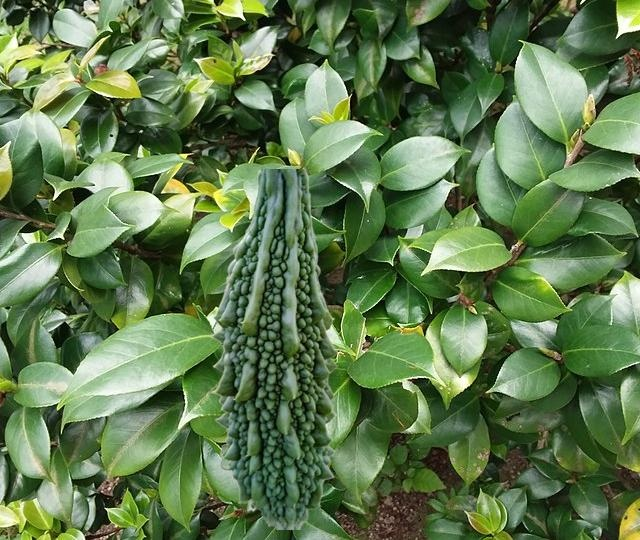ampalaya: (210, 169, 337, 528)
